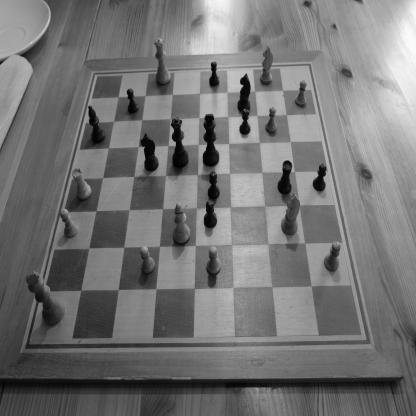black-bishop: (88, 105, 106, 144)
black-king: (202, 113, 220, 167)
black-knight: (140, 133, 159, 172), (237, 73, 251, 112)
black-pawn: (312, 163, 326, 192), (204, 199, 218, 228), (207, 171, 220, 200), (239, 108, 251, 136), (127, 88, 139, 113), (209, 61, 220, 87)
black-queen: (171, 116, 189, 168)
black-rook: (277, 159, 293, 195)
white-bishop: (172, 202, 191, 244)
white-king: (25, 271, 65, 326)
white-knight: (280, 192, 300, 236), (260, 44, 274, 84)
white-pawn: (60, 208, 80, 238), (324, 240, 341, 272), (206, 246, 221, 276), (140, 246, 155, 274), (265, 106, 278, 134), (295, 80, 307, 107)
white-queen: (154, 37, 171, 85)
white-rook: (72, 167, 92, 200)
